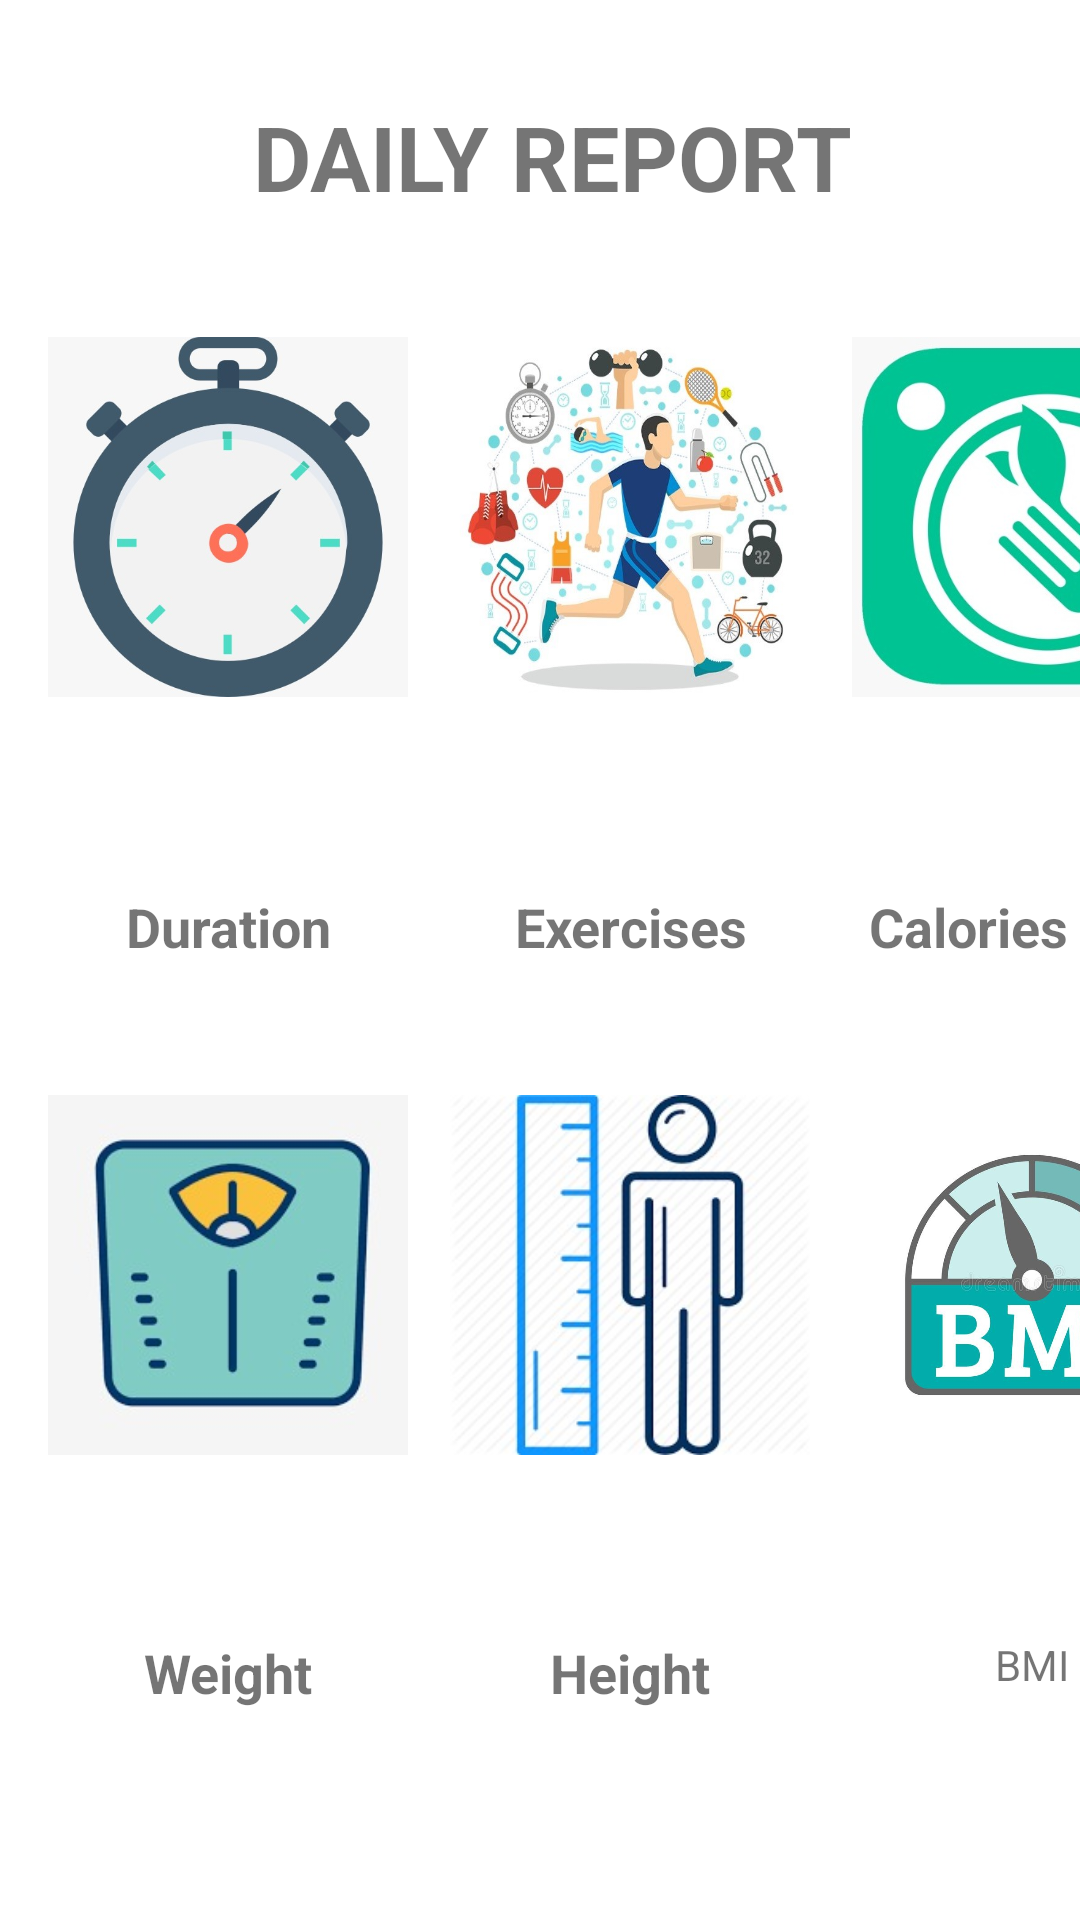

Named icons in this screenshot (1080w x 1920h) and their bounding boxes, box=[x1, y1, x2, y2]:
exercises: box=[468, 349, 787, 690]
height: box=[515, 1095, 745, 1455]
timer: box=[70, 337, 387, 697]
weight: box=[94, 1139, 372, 1408]
